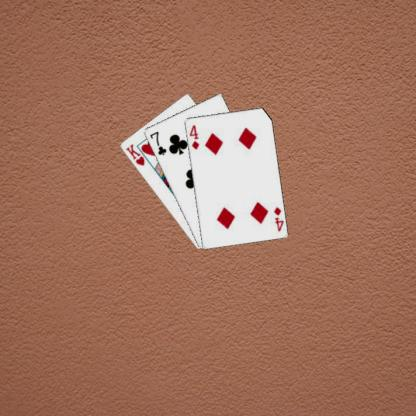4D: (187, 122, 200, 151), (271, 204, 284, 232)
7C: (147, 128, 168, 156)
KH: (122, 141, 146, 167)
